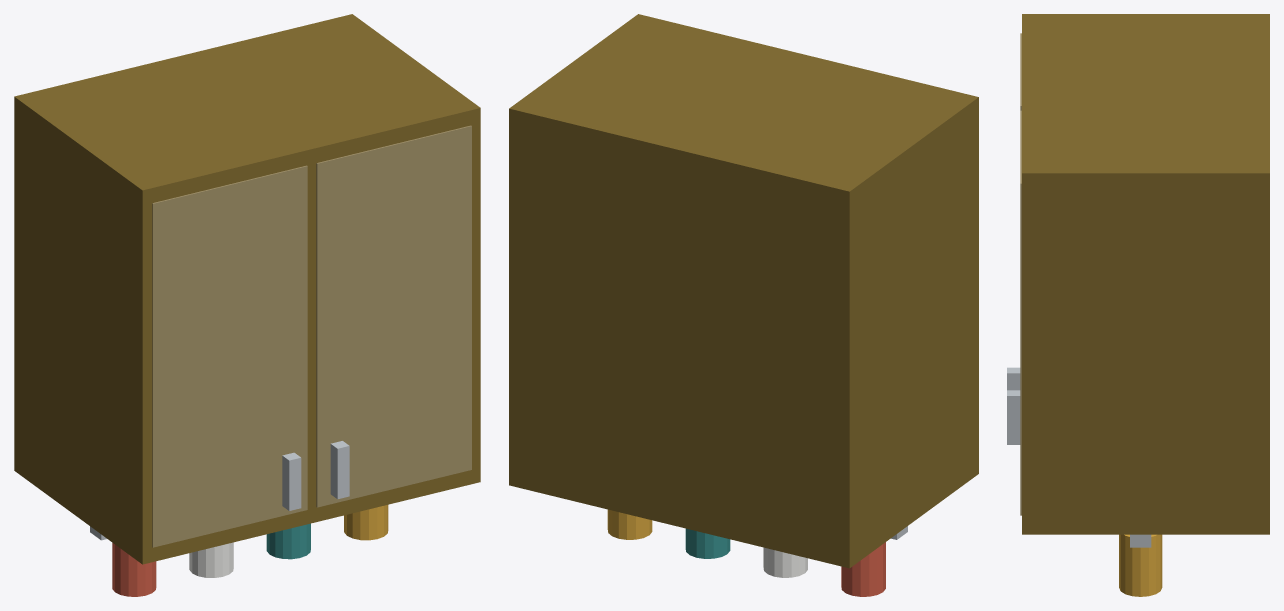
Rendered from wall_cabinet.glb.
The picture shows the model from 3 angles, left to right: view 1: azimuth 30°, elevation 25°; view 2: azimuth 150°, elevation 25°; view 3: azimuth 270°, elevation 25°; orthographic projection. The views are drawn at different scales.
Visible parts, largest first — view 1: wall_cabinet_Body; view 2: wall_cabinet_Body; view 3: wall_cabinet_Body.
Part boxes in pixels (x1,y1,x2,y2): wall_cabinet_Body: [14, 14, 480, 596]; wall_cabinet_Body: [509, 14, 978, 596]; wall_cabinet_Body: [1007, 14, 1269, 596].
Bounding box in the file's own units: 0.7 × 0.9 × 0.488.
